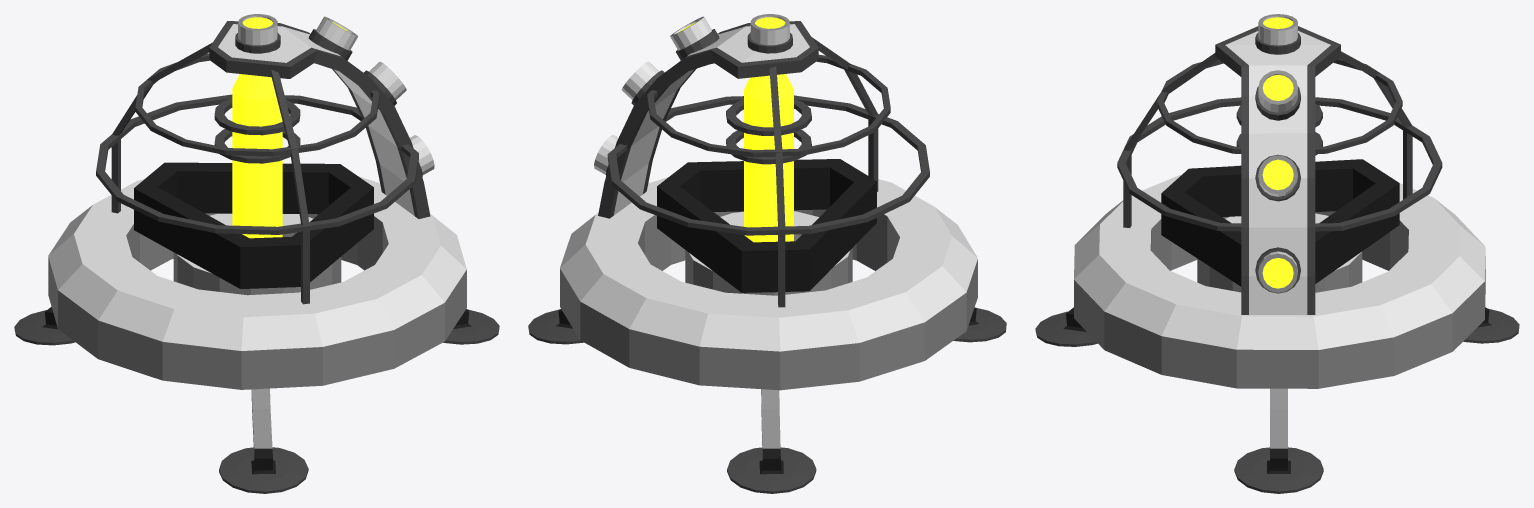
The model's file is Guetteur.fbx.
The picture shows the model from 3 angles, left to right: view 1: azimuth 30°, elevation 25°; view 2: azimuth 150°, elevation 25°; view 3: azimuth 270°, elevation 25°; orthographic projection.
Parts seen in each view (by area): view 1: Guetteur_OW, Guetteur_OW_Lights; view 2: Guetteur_OW, Guetteur_OW_Lights; view 3: Guetteur_OW, Guetteur_OW_Lights.
Part boxes in pixels (left/top/right/bottom): Guetteur_OW: left=14, top=14, right=499, bottom=493; Guetteur_OW_Lights: left=232, top=17, right=349, bottom=238; Guetteur_OW: left=528, top=14, right=1006, bottom=493; Guetteur_OW_Lights: left=678, top=17, right=793, bottom=242; Guetteur_OW: left=1035, top=14, right=1519, bottom=493; Guetteur_OW_Lights: left=1262, top=17, right=1293, bottom=288.
Size of the model in its own units: 68.44 by 56.33 by 69.33.
